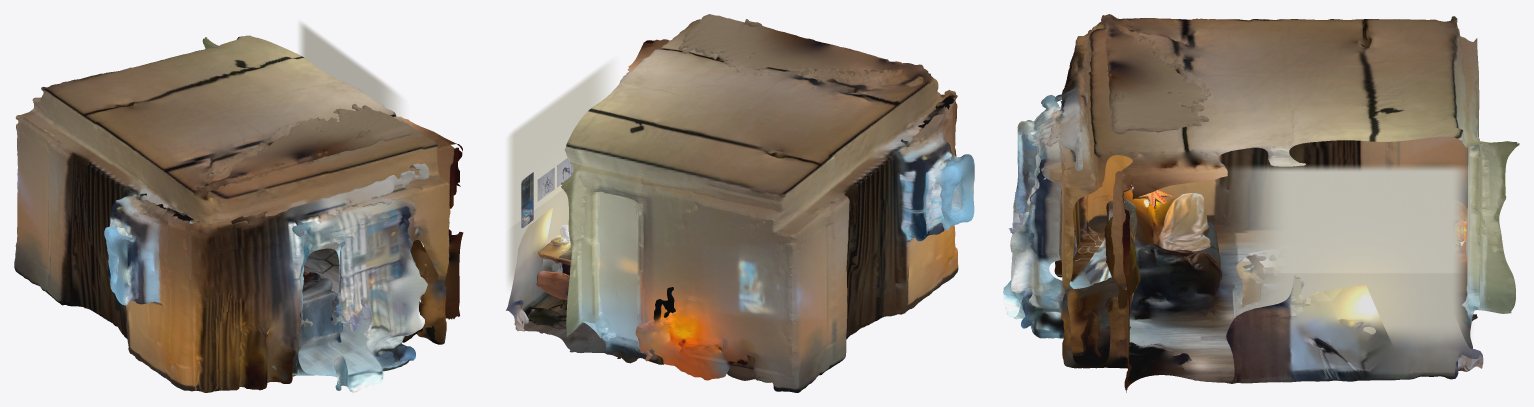
The model's file is room.glb.
3 renders of one model, left to right at view 1: azimuth 30°, elevation 25°; view 2: azimuth 150°, elevation 25°; view 3: azimuth 270°, elevation 25°, orthographic. The views are drawn at different scales.
Visible parts, largest first — view 1: scan-wall-south, scan-ceiling, scan-room, scan-wall-west, side-wall, scan-wall-east, scan-wall-north; view 2: scan-ceiling, scan-wall-north, scan-room, side-wall, scan-wall-west, scan-wall-east, painting, drawing-1; view 3: scan-ceiling, scan-room, side-wall, scan-wall-south, scan-wall-east, scan-wall-north.
Boxes of the visible parts, bbox=[...] form: scan-wall-south: bbox=[186, 147, 450, 392]; scan-ceiling: bbox=[41, 35, 437, 213]; scan-room: bbox=[15, 100, 448, 392]; scan-wall-west: bbox=[104, 202, 149, 305]; side-wall: bbox=[298, 22, 403, 117]; scan-wall-east: bbox=[398, 116, 463, 319]; scan-wall-north: bbox=[14, 37, 218, 270]; scan-ceiling: bbox=[564, 14, 938, 211]; scan-wall-north: bbox=[511, 162, 800, 392]; scan-room: bbox=[517, 43, 958, 392]; side-wall: bbox=[506, 60, 614, 288]; scan-wall-west: bbox=[914, 138, 974, 241]; scan-wall-east: bbox=[506, 39, 669, 312]; painting: bbox=[521, 172, 533, 228]; drawing-1: bbox=[537, 167, 554, 201]; scan-ceiling: bbox=[1092, 14, 1466, 171]; scan-room: bbox=[1003, 36, 1476, 386]; side-wall: bbox=[1227, 165, 1470, 343]; scan-wall-south: bbox=[1003, 27, 1095, 368]; scan-wall-east: bbox=[1122, 177, 1481, 392]; scan-wall-north: bbox=[1464, 38, 1519, 371].
Size of the model in its own units: 5.03 by 3.06 by 5.68.
19 materials, 14 textured.
